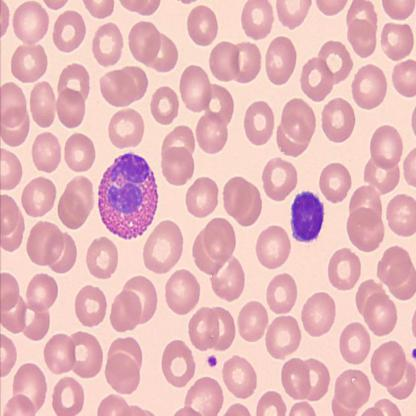Eosinophil: (99, 151, 158, 240)
